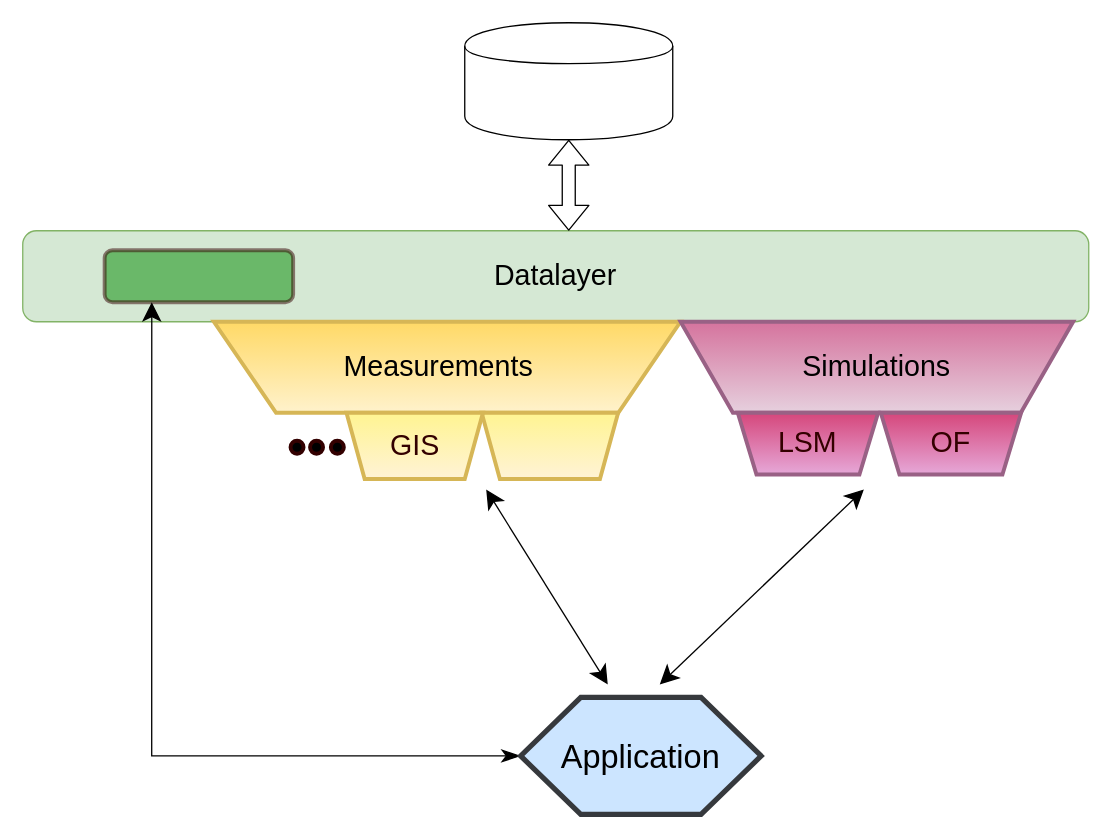
The diagram is 1112 pixels wide and 840 high, and some of its shapes have lost their labels. The centre of each missing label's shape, as x and y in pixels:
"Cache" belongs at [198,276].
"Meteo" belongs at [549,445].
"Mongo DB" belongs at [568,80].
